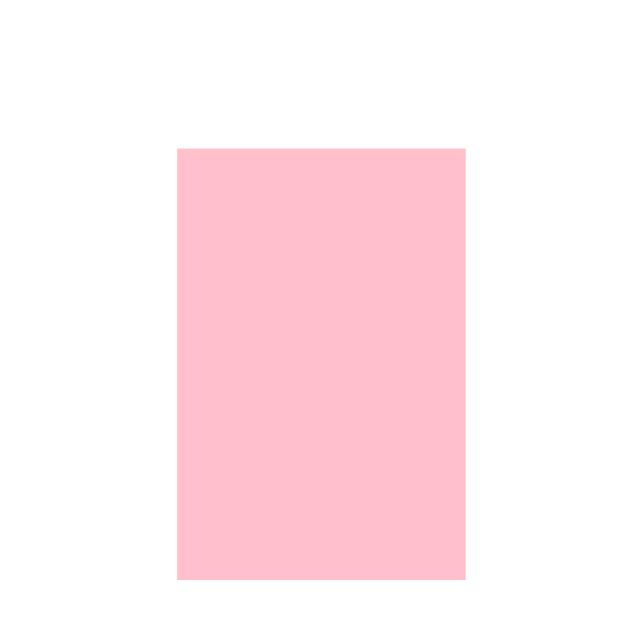Rectangle: (146, 120, 521, 597)
